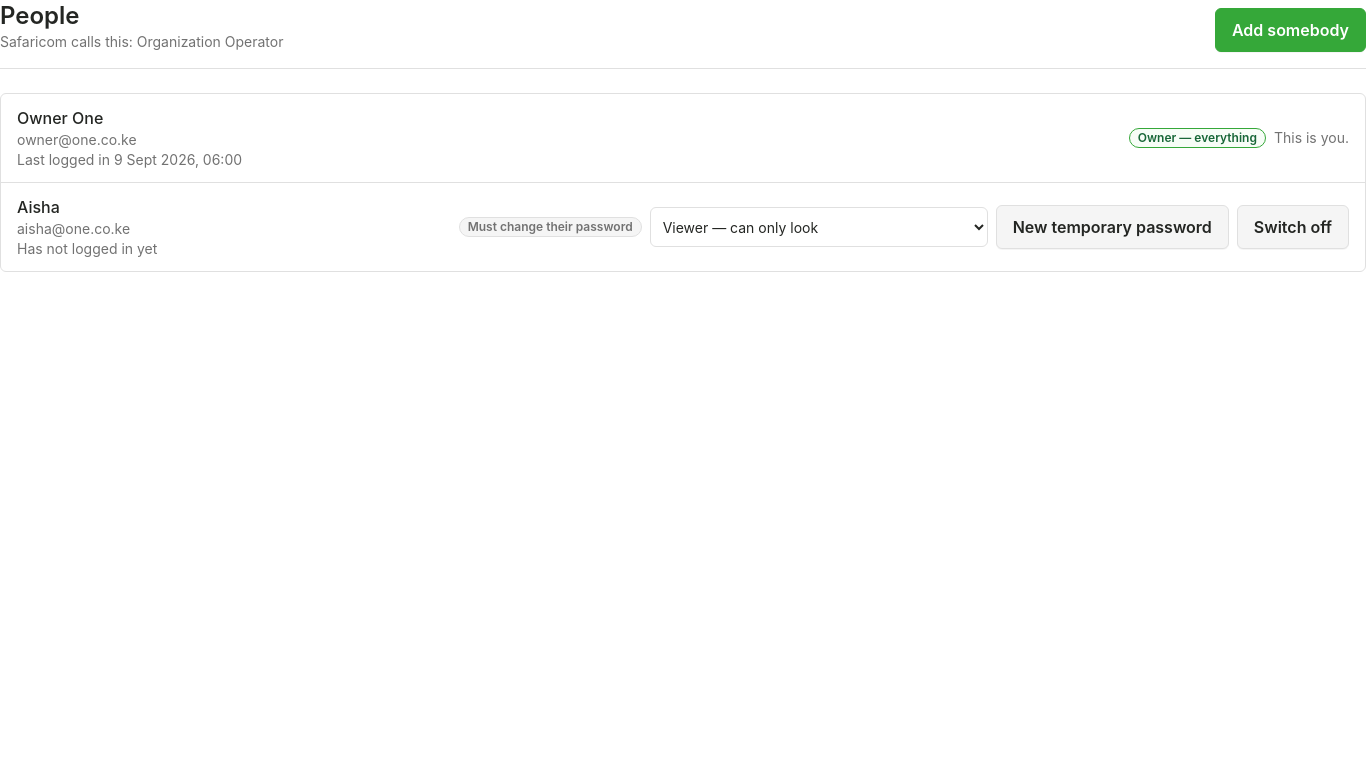
Test: People › resets a password and shows the new one once
Click the button "New temporary password".
click(1112, 227)  # box [996, 205, 1229, 249]
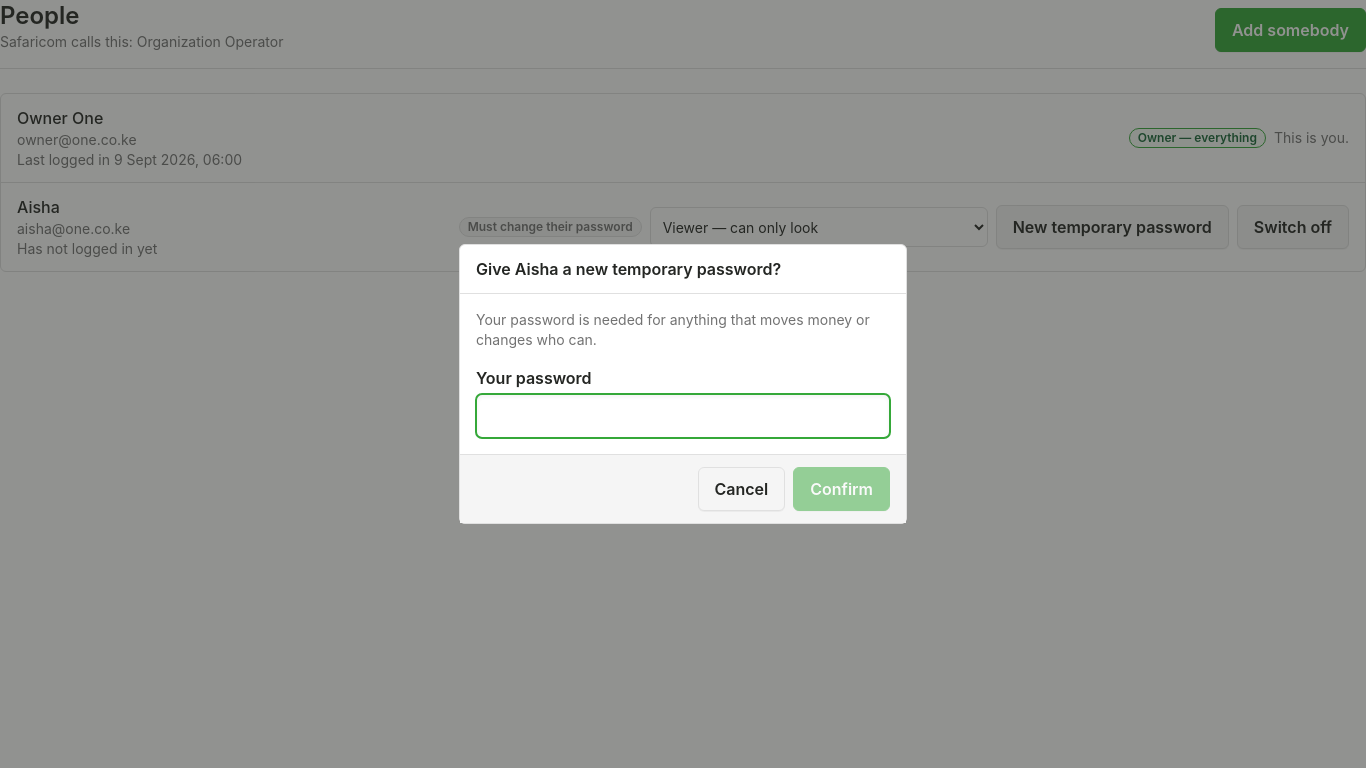
Type "owner-password" into the password field labelled "Your password".
click(683, 416); type("owner-password")  # box [476, 394, 890, 438]
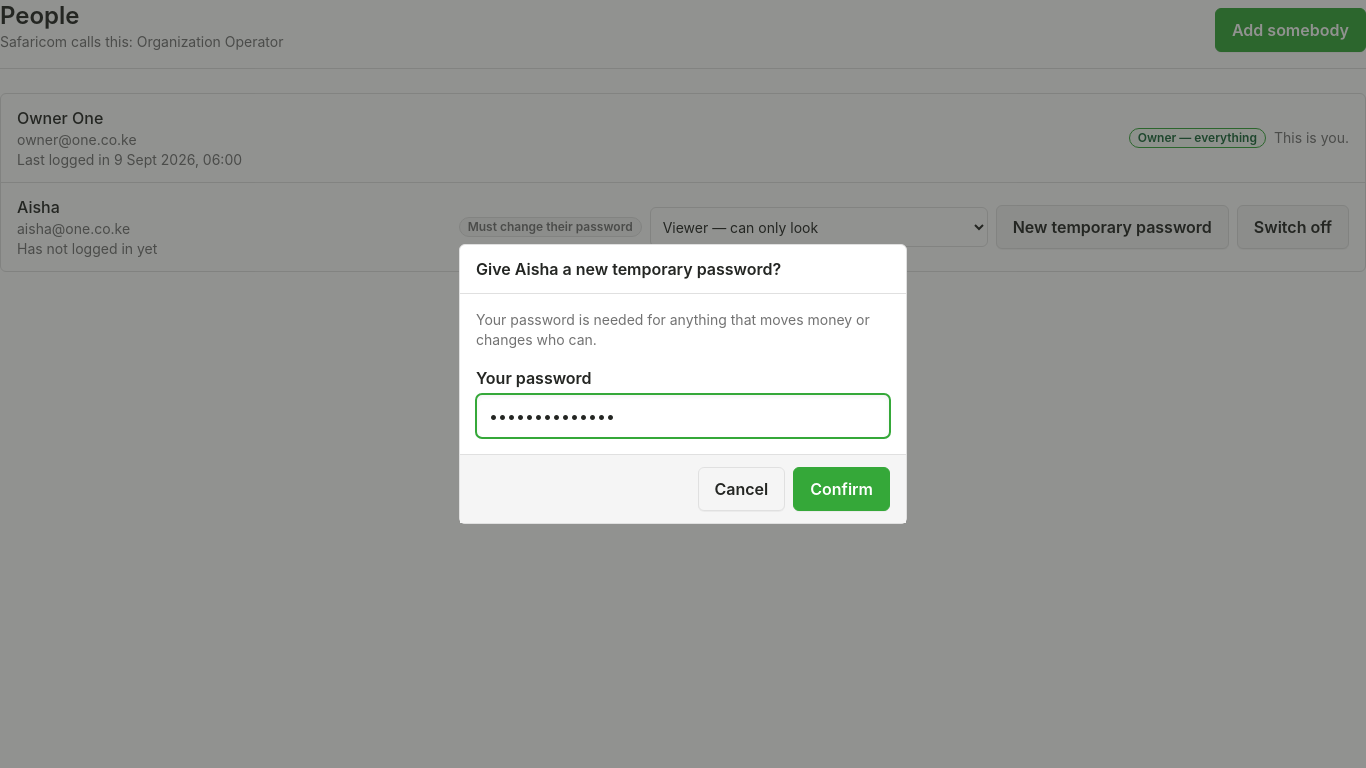
Click the button "Confirm".
click(842, 489)  # box [793, 467, 890, 511]
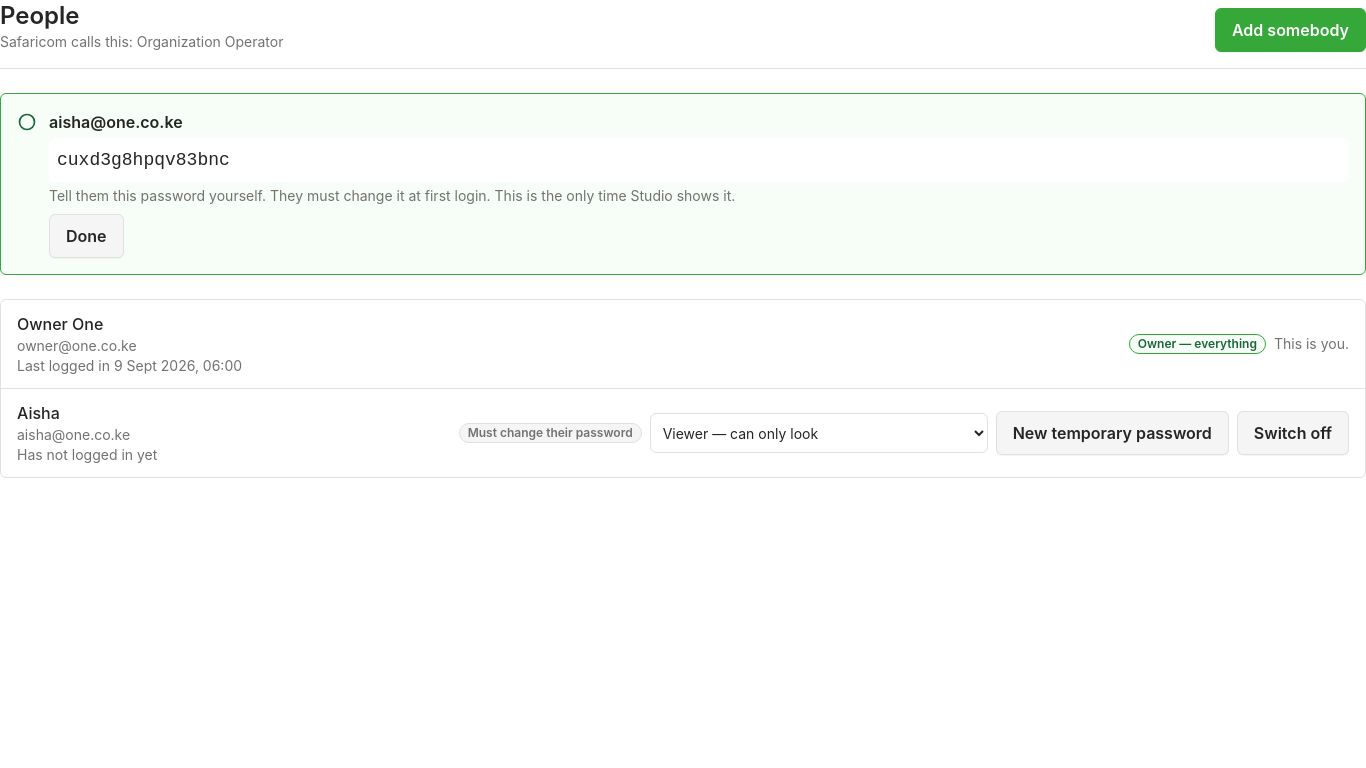
Check: the message shows "Tell them this password yourself. They must change it at first login.", box [49, 187, 491, 204]
